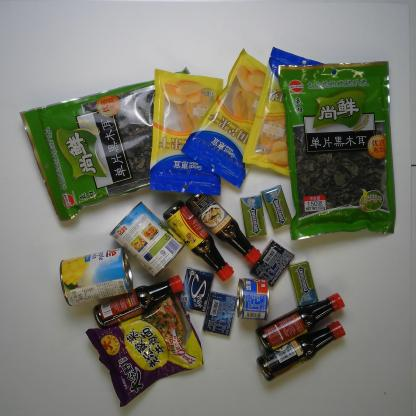Canned Food: (110, 195, 182, 278), (49, 247, 134, 306), (233, 276, 270, 322)
Dried Food: (20, 67, 207, 217), (274, 57, 398, 242)
Dried Fruit: (242, 40, 345, 176), (186, 36, 267, 186), (145, 66, 232, 202)
Gum: (199, 289, 243, 346), (251, 240, 304, 287), (284, 258, 324, 310), (177, 268, 211, 315), (257, 184, 293, 228), (237, 194, 268, 240)
Instant Noodles: (81, 292, 206, 386)
Seasoner: (158, 202, 235, 282), (186, 187, 260, 264), (252, 324, 348, 380), (89, 277, 184, 327), (262, 293, 348, 341)
